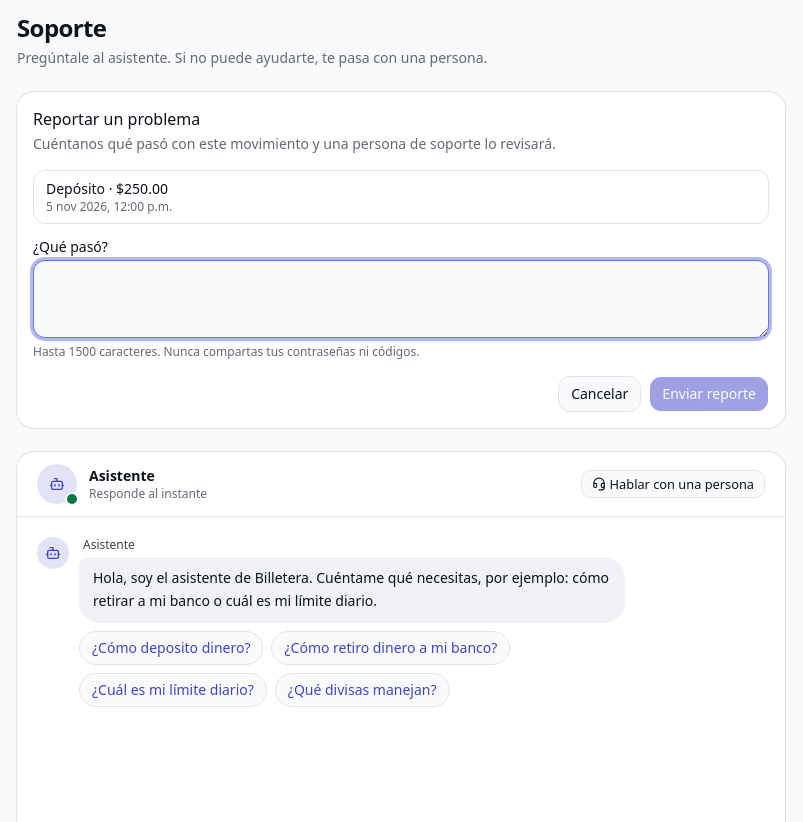
Test: reporting a problem with a movement › refuses what the API would before it travels
Type "a <b> c" into the text box labelled "¿Qué pasó?" at (401,299), box left=33, top=260, right=769, bottom=338
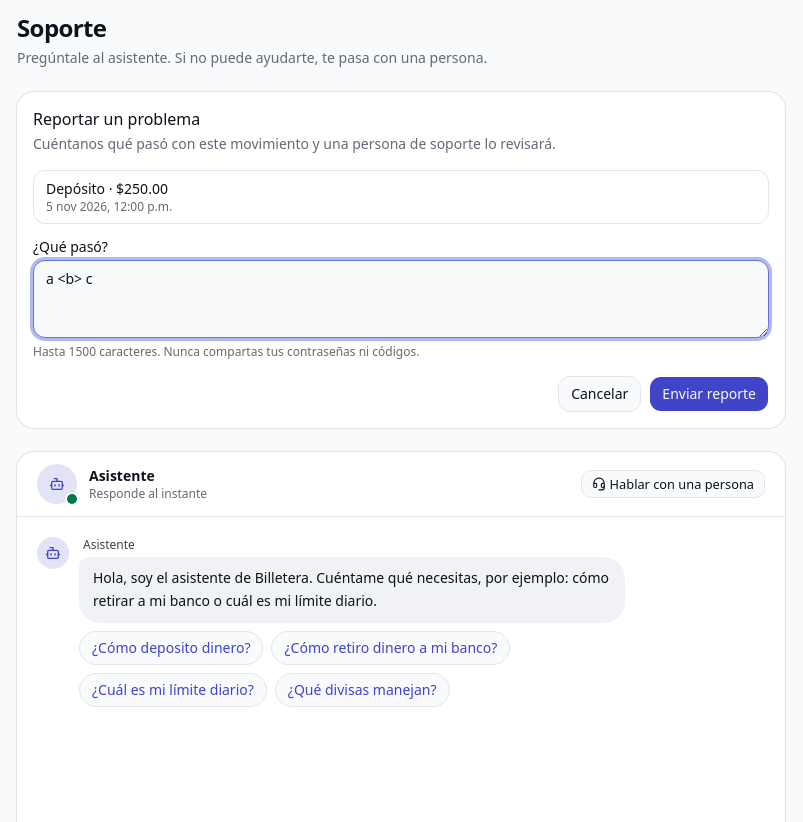
Click the button "Enviar reporte" at (709,394), box left=649, top=376, right=769, bottom=412
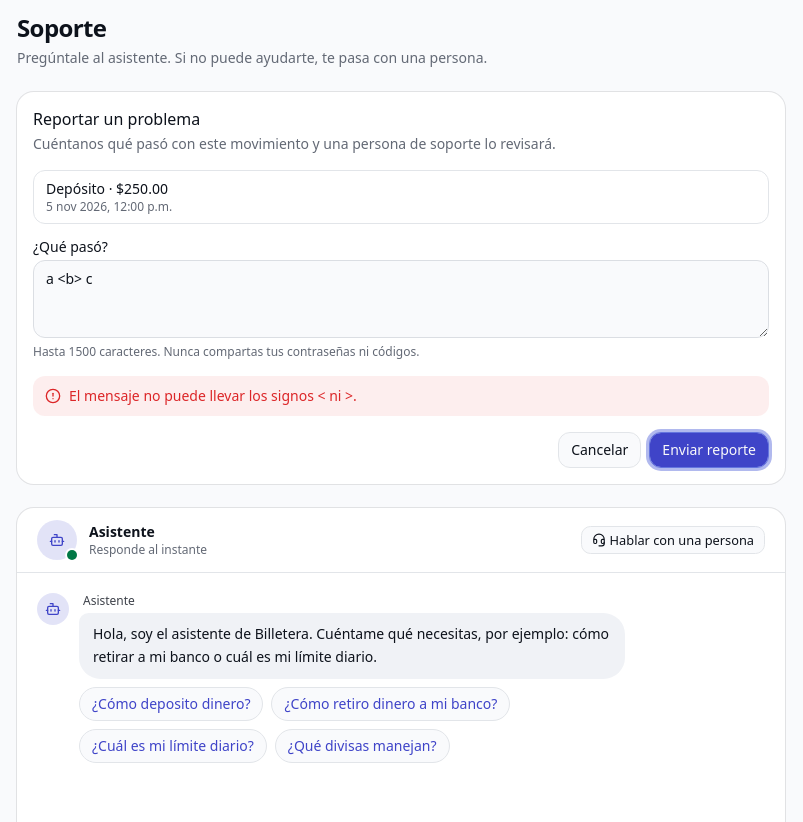
expect the text "El mensaje no puede llevar los signos < ni >." is shown: met, box left=69, top=386, right=357, bottom=406
